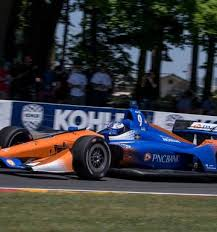f1_car: (1, 94, 217, 193)
